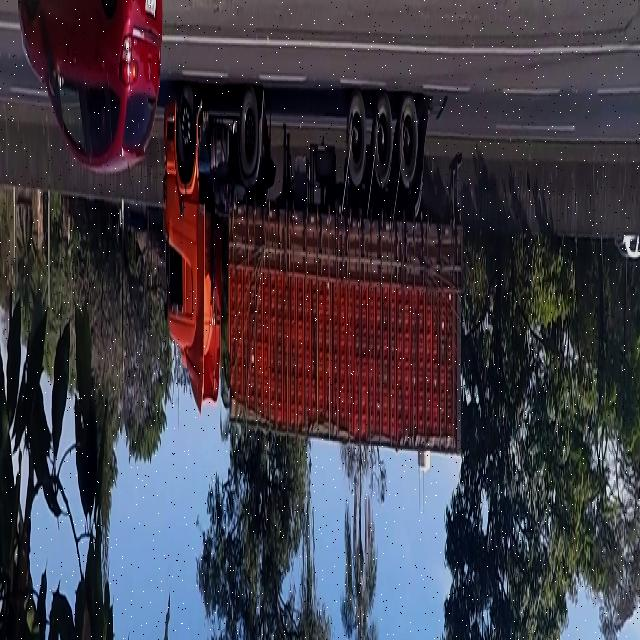-axle: (236, 84, 260, 188), (397, 93, 420, 195), (346, 88, 367, 195), (174, 81, 197, 176), (372, 96, 393, 192)
